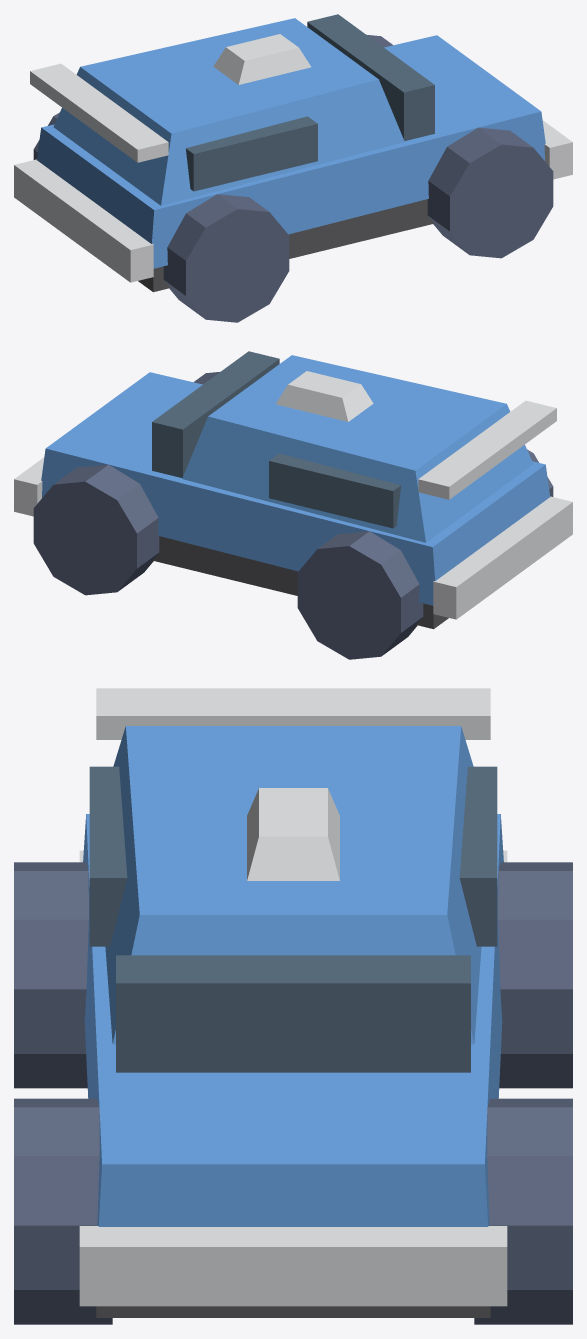
File: car_rally.glb
The picture shows the model from 3 angles, top to bottom: view 1: azimuth 30°, elevation 25°; view 2: azimuth 150°, elevation 25°; view 3: azimuth 270°, elevation 25°; orthographic projection. The views are drawn at different scales.
Bounding box in the file's own units: 0.285 × 0.12 × 0.17.
